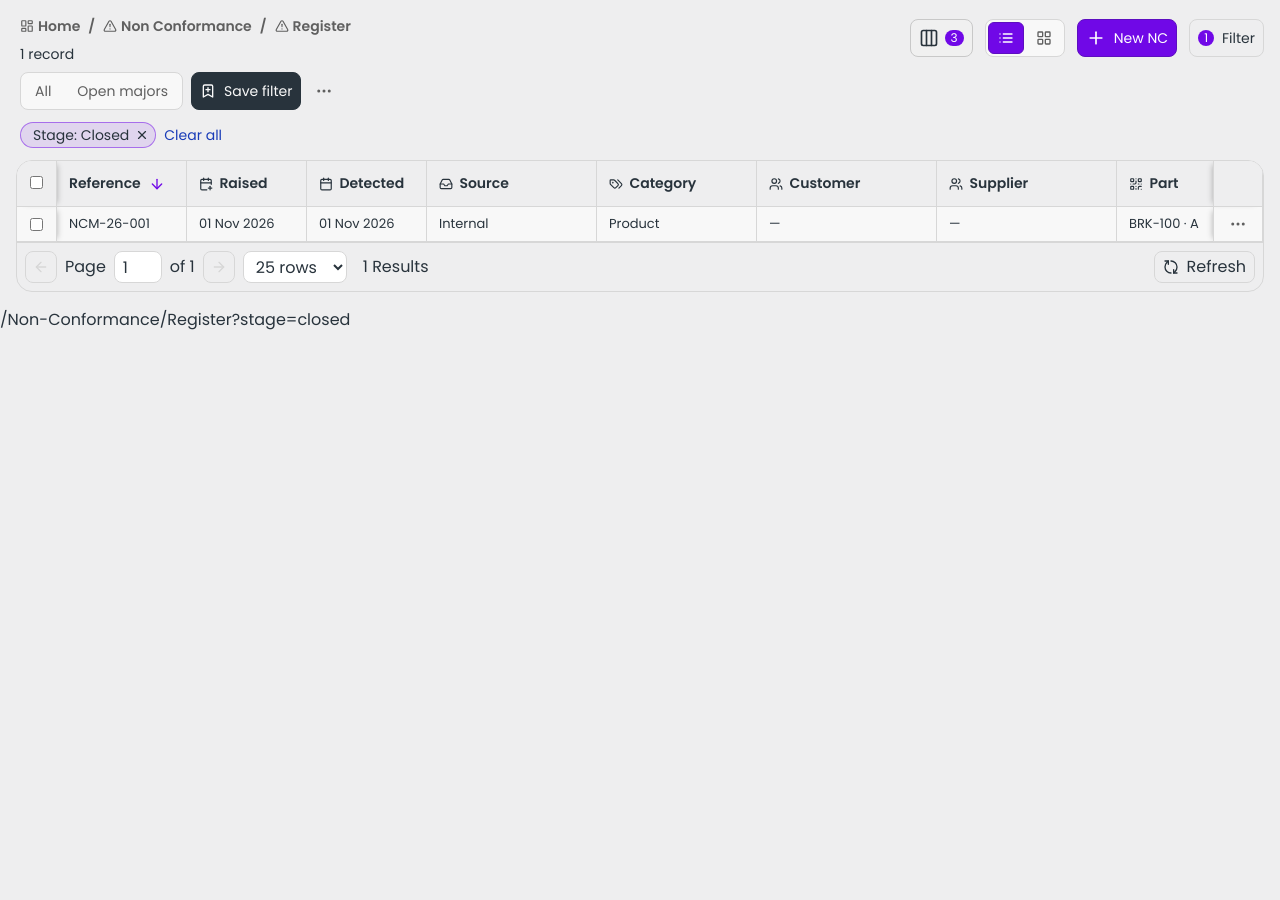
Scenario: NC registers › saved filters › replace a filter of the same name, whatever its case, instead of adding another
Later steps or results of the test are not shown.
Expected: the text "NCM-26-001" is shown, [65, 214, 154, 234]
Click the button "Save filter" at (246,91), box [191, 72, 302, 110]
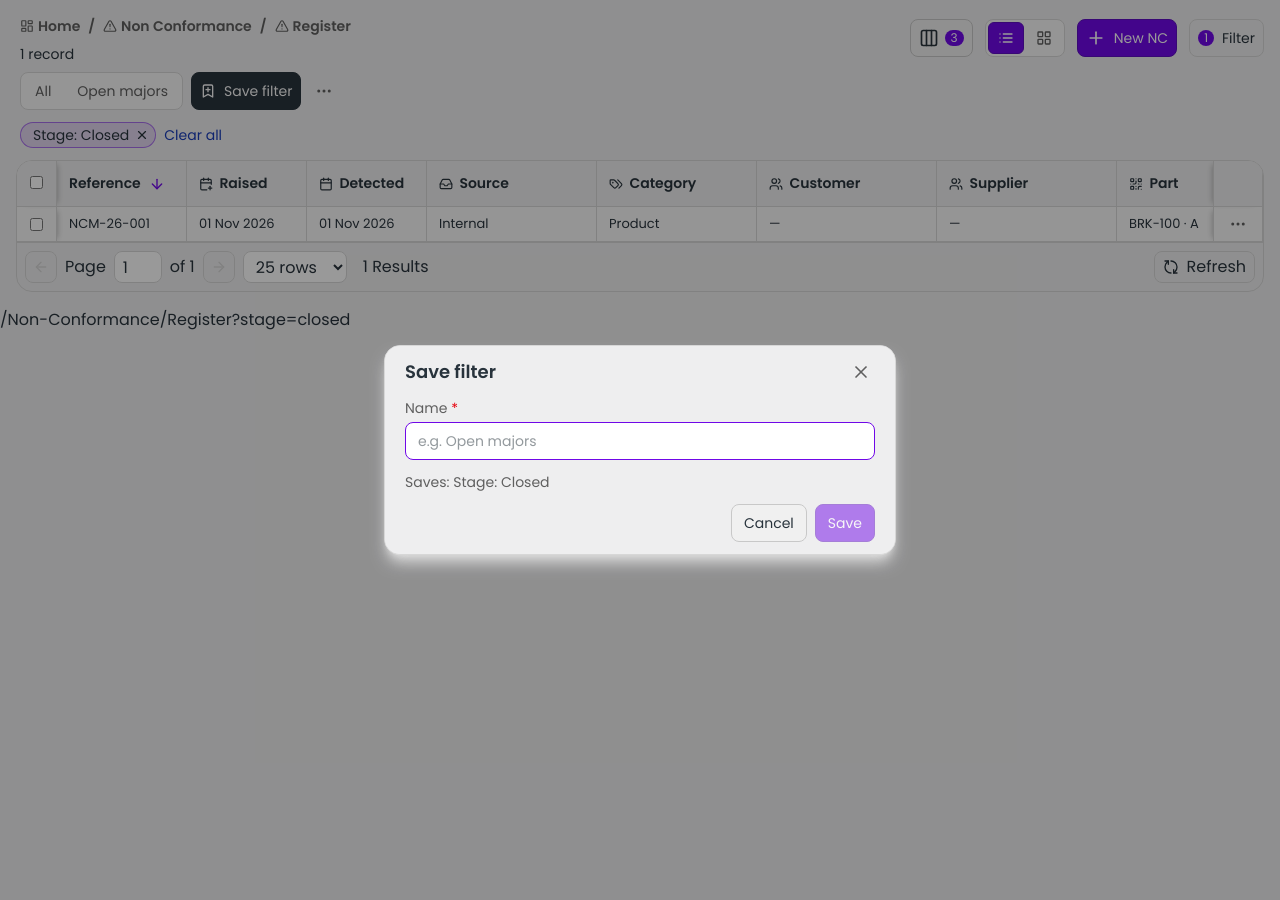
Type "open MAJORS" into the field labelled "Name" at (640,441), box [405, 422, 875, 460]
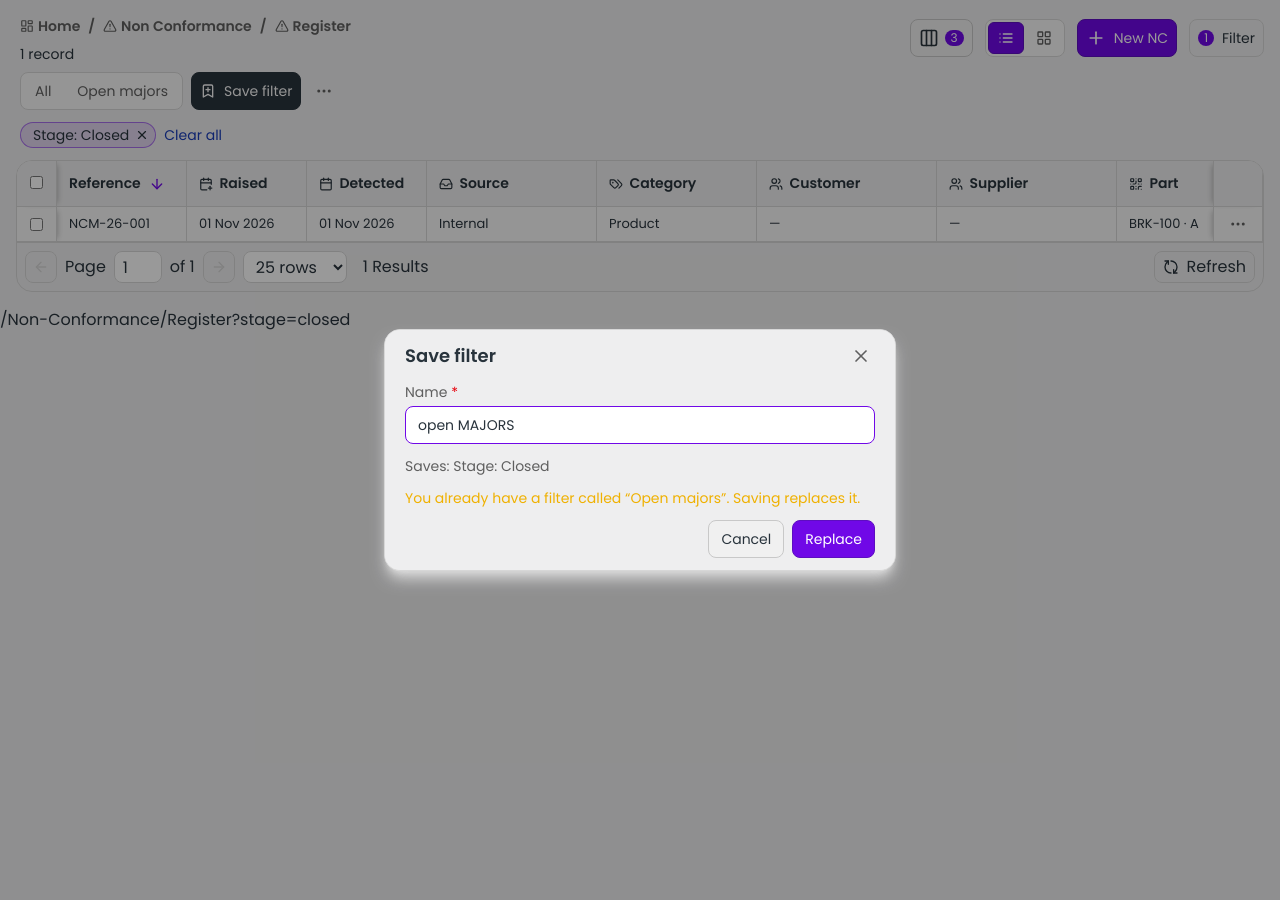
Expected: the dialog "Save filter" shows "Saving replaces it", [721, 488, 860, 508]
